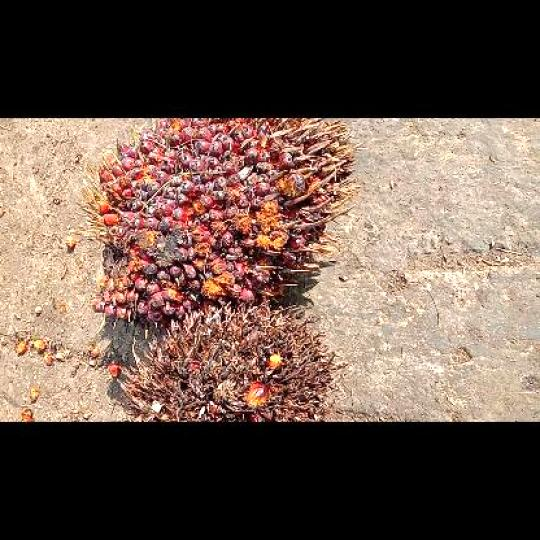masak: (72, 118, 360, 336)
terlalu masak: (122, 301, 350, 421)
